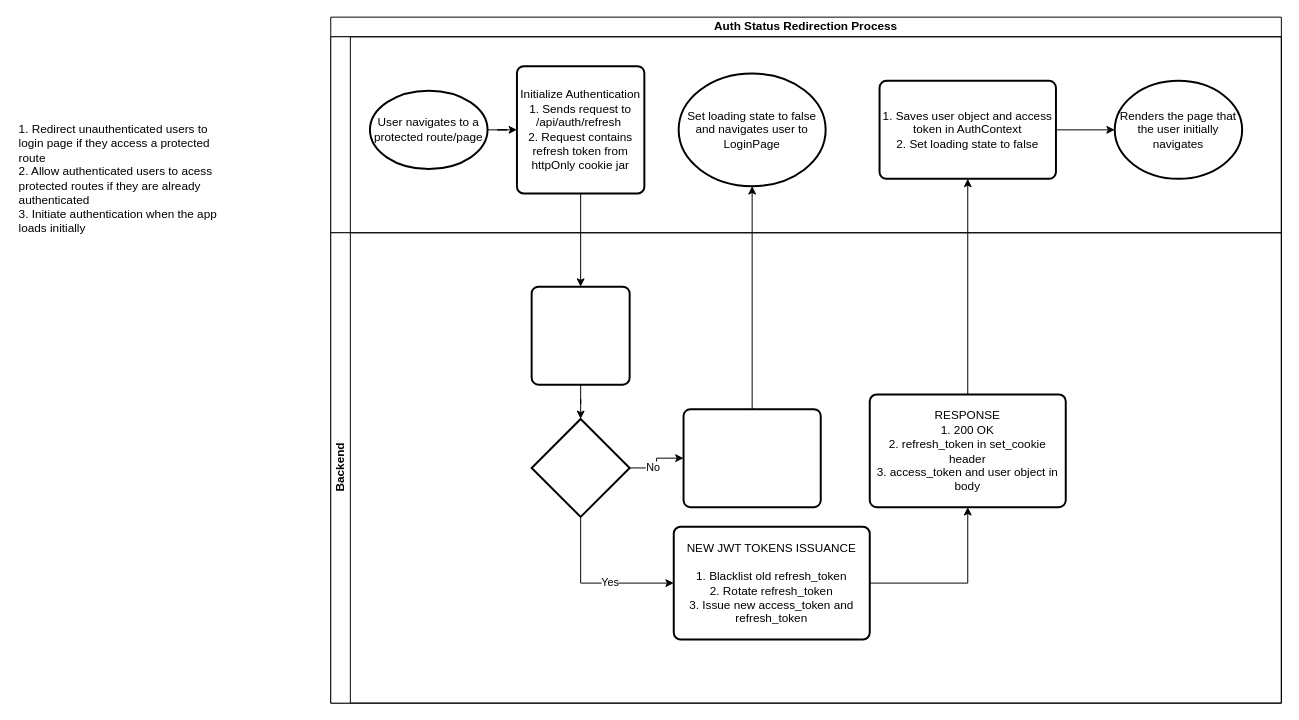
The diagram is 1299 pixels wide and 720 high, and some of its shapes have lost their labels. Here are the shapes that lost their labels. From the top down, the box of each, then its label:
(330, 36, 1281, 233): Frontend
(530, 285, 630, 385): Validates refresh token
(530, 417, 630, 517): Valid token?
(682, 408, 821, 508): RETURN RESPONSE 1. 401 Unauthorized 2. Delete refresh_token cookie
